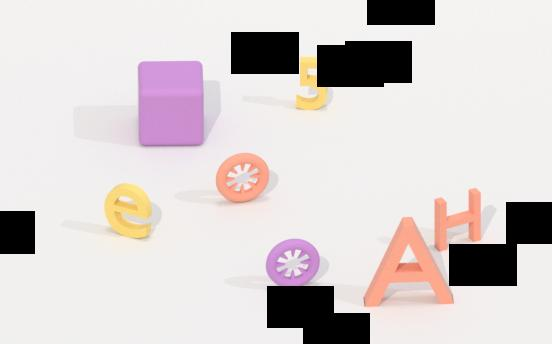5: (292, 56, 335, 112)
A-hoa: (359, 211, 457, 313)
H-hoa: (432, 188, 484, 254)
e: (102, 182, 156, 242)
hop: (130, 58, 211, 148)
tron: (264, 237, 325, 289), (215, 151, 274, 203)
